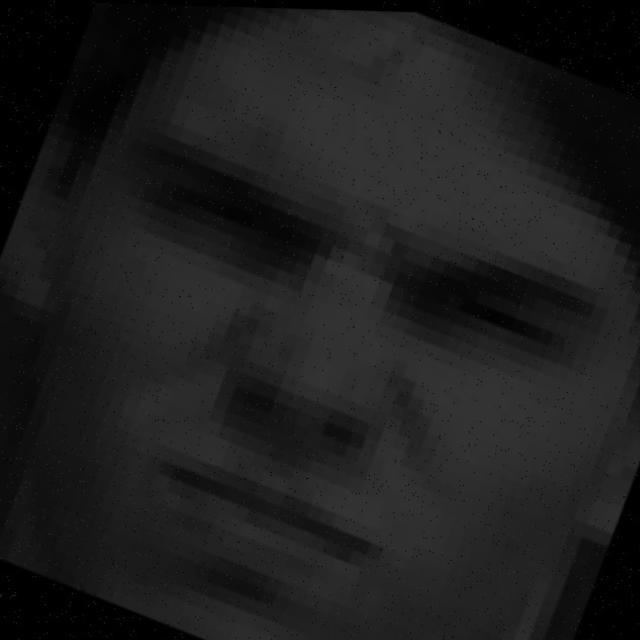Disgust: (17, 83, 640, 640)
